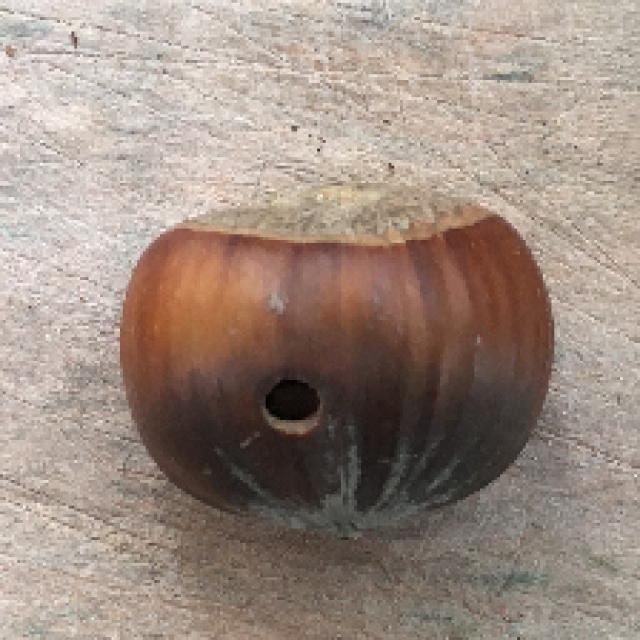damagedHazelnut: (110, 167, 580, 541)
